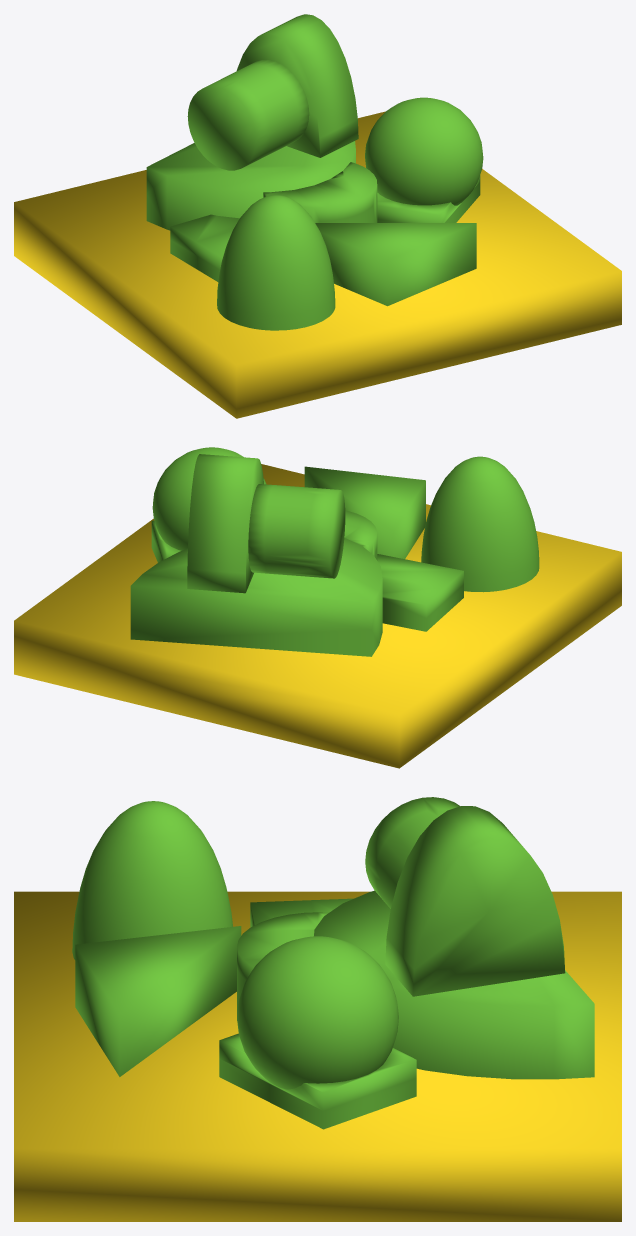
File: fragment_2.glb
3 views of the same model, one above another, from view 1: azimuth 30°, elevation 25°; view 2: azimuth 150°, elevation 25°; view 3: azimuth 270°, elevation 25° (orthographic). The views are drawn at different scales.
Parts seen in each view (by area): view 1: figura, basetta; view 2: figura, basetta; view 3: figura, basetta.
Part boxes in pixels (<box>): figura: <box>146,14,483,330</box>; basetta: <box>14,111,621,418</box>; figura: <box>130,447,539,656</box>; basetta: <box>14,464,621,768</box>; figura: <box>72,797,594,1129</box>; basetta: <box>14,891,621,1221</box>.
Size of the model in its own units: 0.015 by 0.008 by 0.015.
